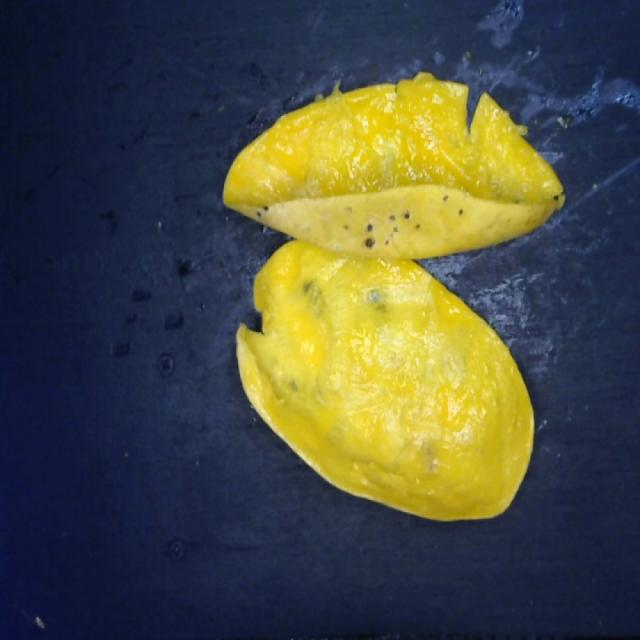biodegradable: (207, 78, 566, 530)
